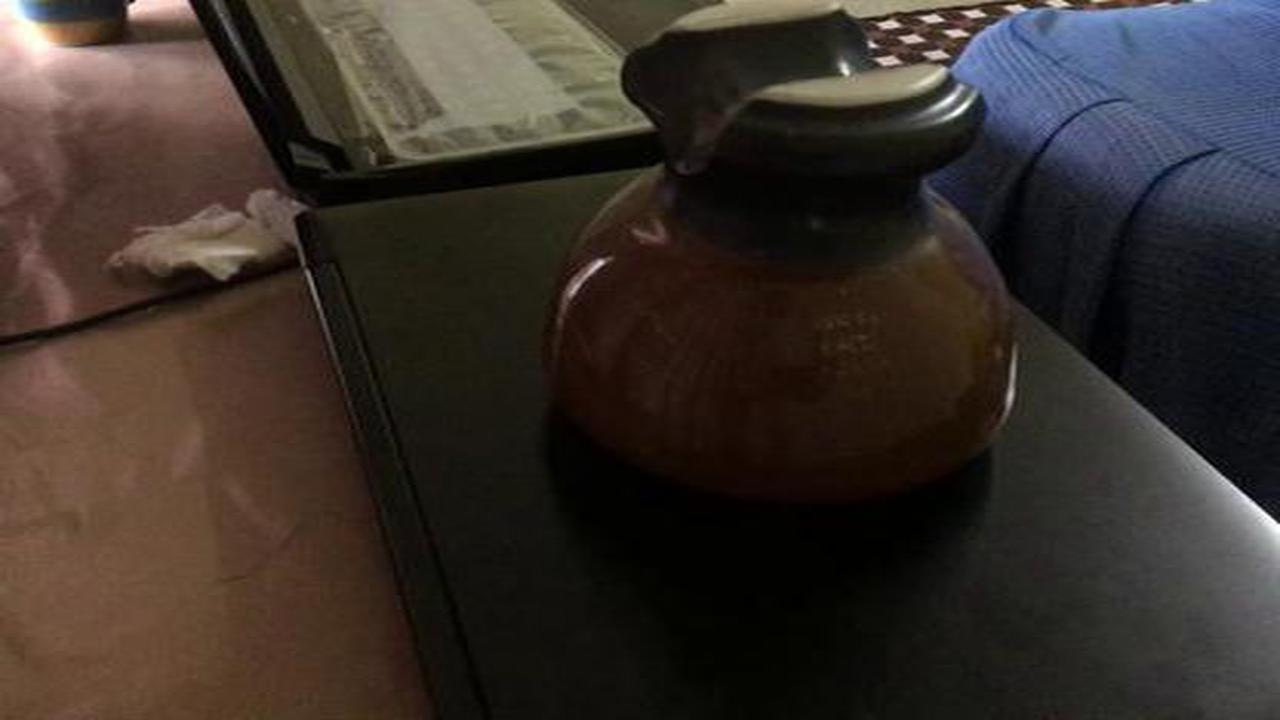insulator_pin: (539, 2, 1037, 516)
